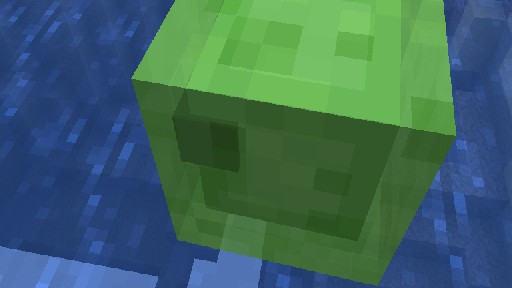slime: (130, 0, 456, 285)
